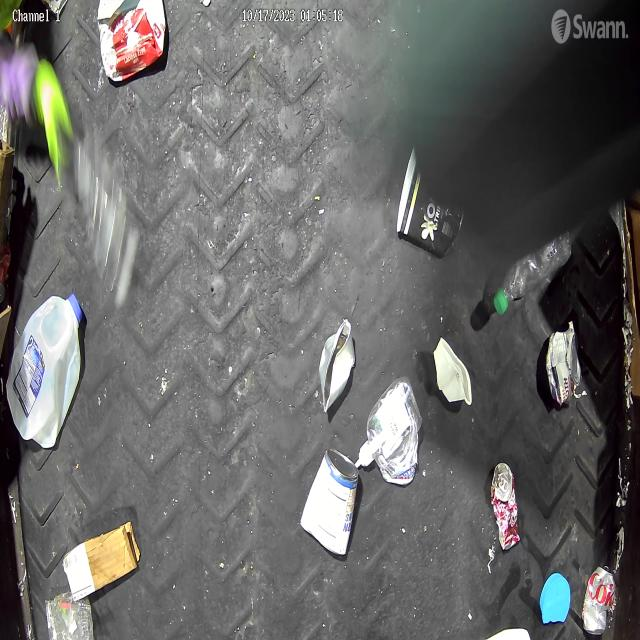can: (299, 448, 359, 557), (318, 317, 356, 412), (490, 462, 521, 552), (582, 564, 619, 636), (546, 328, 580, 404)
milk_jug: (6, 291, 86, 448)
plastic_bottle: (494, 231, 572, 315)
